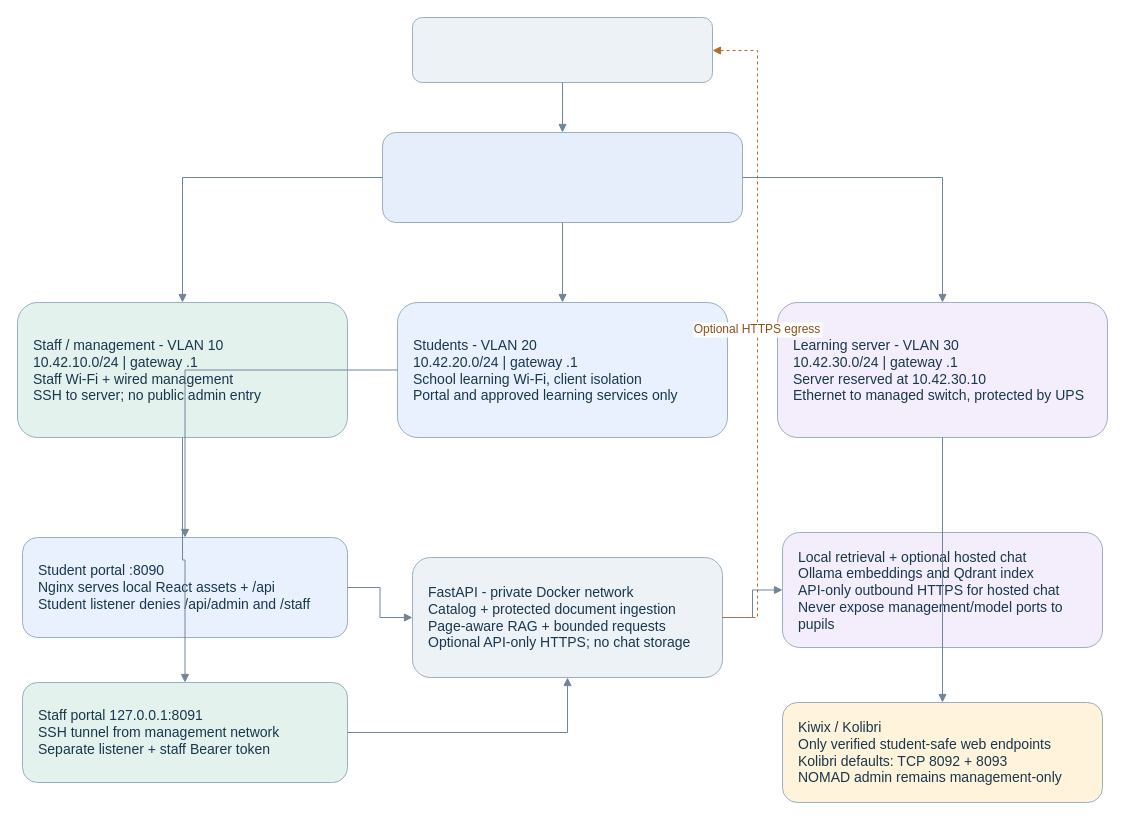
Image size: 1125x820. Some labels were removed from this diagram. Here are the shapes that lost their labels. From the top down, the centre of each, then its label:
pixel 562 49: Internet / update connection Optional, disconnected for acceptance
pixel 562 177: VLAN-aware router / firewall Default deny between zones; local DHCP/DNS
